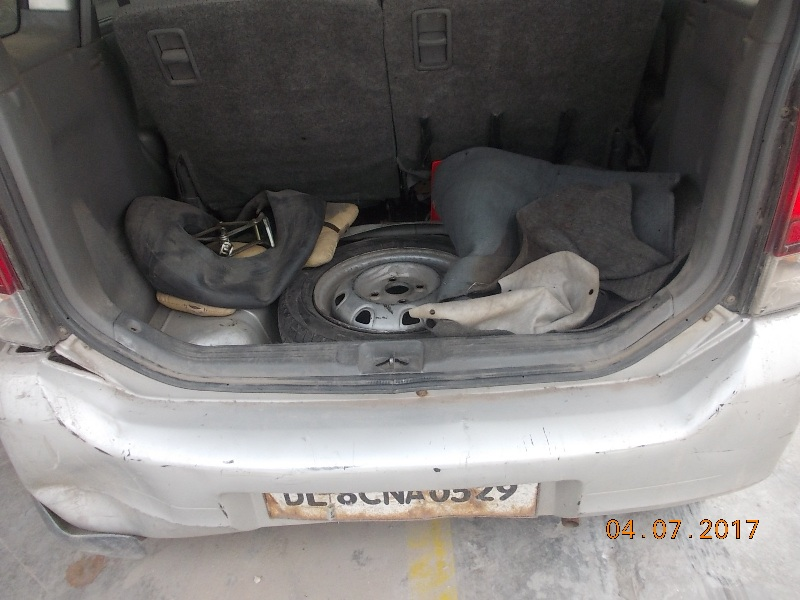Dent: (50, 450, 172, 540)
